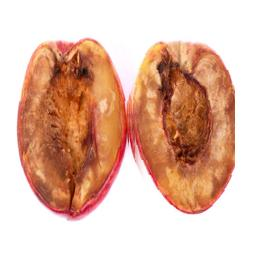Peach Rotten: (16, 33, 131, 223), (128, 32, 236, 219)
